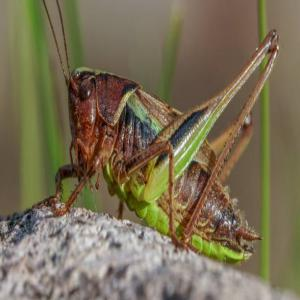locust: (53, 19, 270, 262)
